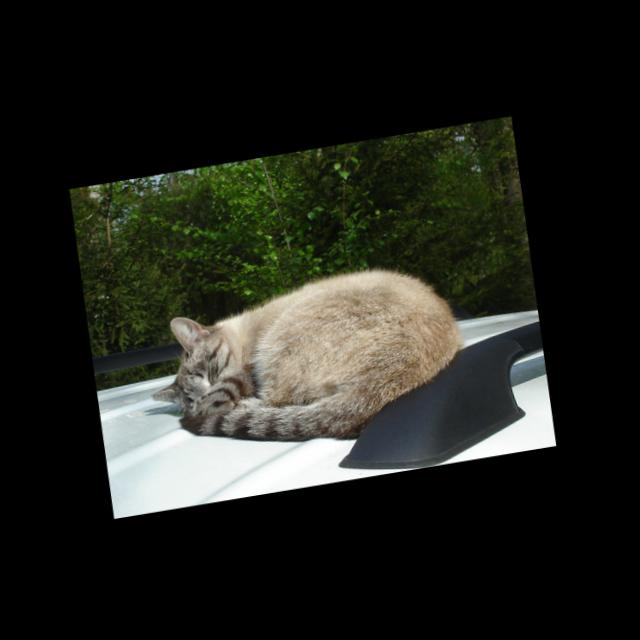animals: (137, 258, 475, 471)
